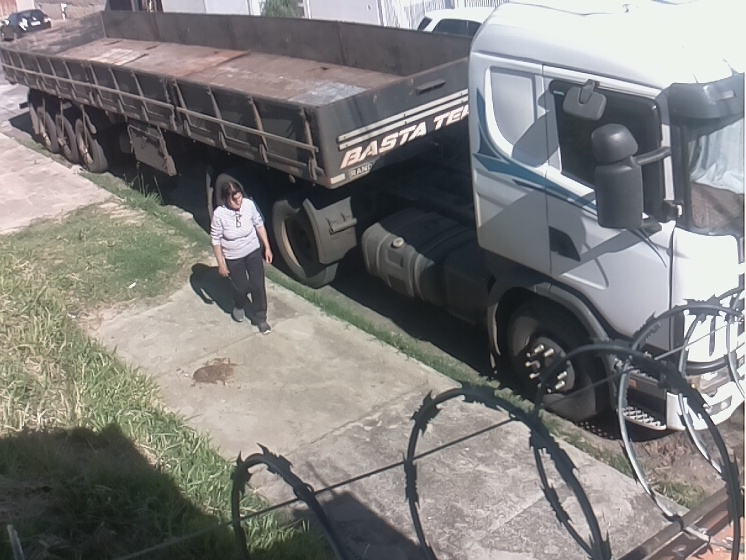person: (209, 180, 275, 336)
